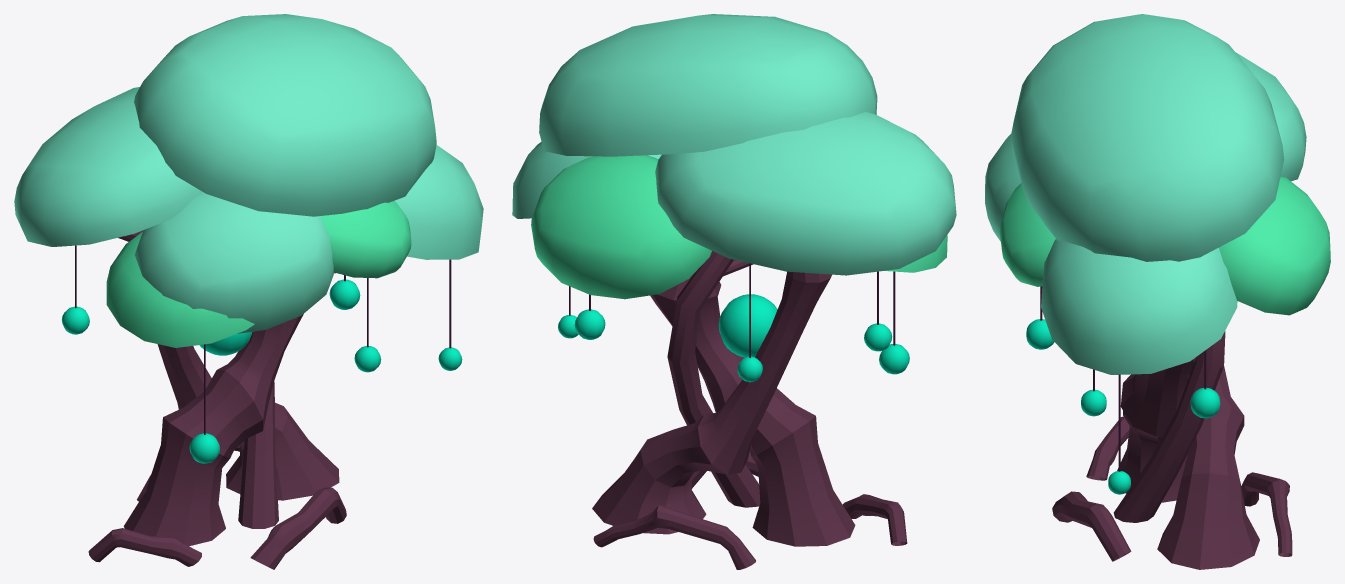
File: ArbreMere_Final.fbx
3 views of the same model, side by side, from view 1: azimuth 30°, elevation 25°; view 2: azimuth 150°, elevation 25°; view 3: azimuth 270°, elevation 25° (orthographic).
Visible parts, largest first — view 1: ArbreMere_Final; view 2: ArbreMere_Final; view 3: ArbreMere_Final.
Boxes of the visible parts, <box> form: ArbreMere_Final: <box>14,14,483,569</box>; ArbreMere_Final: <box>512,14,956,569</box>; ArbreMere_Final: <box>985,14,1330,569</box>.
Bounding box in the file's own units: 1040 × 1141 × 718.
